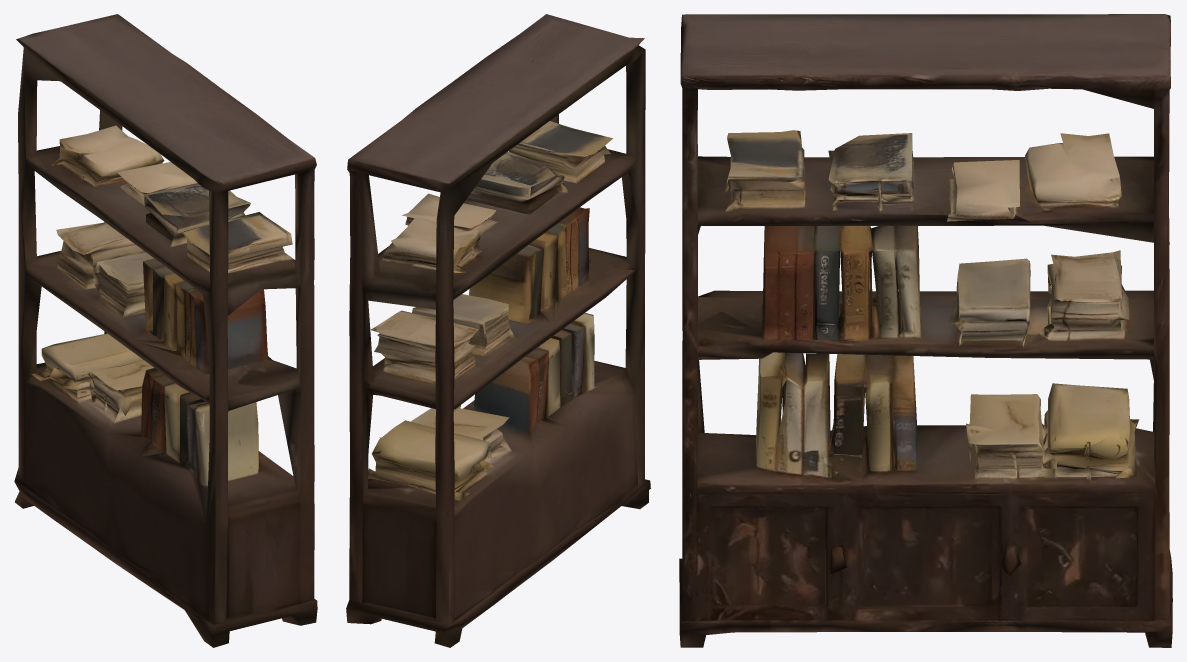
The model's file is bookshelf.glb.
3 renders of one model, left to right at view 1: azimuth 30°, elevation 25°; view 2: azimuth 150°, elevation 25°; view 3: azimuth 270°, elevation 25°, orthographic. The views are drawn at different scales.
Visible parts, largest first — view 1: tripo_node_ed6fff9f-d998-4e77-92b4-e005650b5904; view 2: tripo_node_ed6fff9f-d998-4e77-92b4-e005650b5904; view 3: tripo_node_ed6fff9f-d998-4e77-92b4-e005650b5904.
Boxes of the visible parts, x1,y1,x2,y2 form: tripo_node_ed6fff9f-d998-4e77-92b4-e005650b5904: (14,14,317,647); tripo_node_ed6fff9f-d998-4e77-92b4-e005650b5904: (346,14,650,647); tripo_node_ed6fff9f-d998-4e77-92b4-e005650b5904: (679,14,1172,647).
Bounding box in the file's own units: 0.2527 × 1 × 0.7801.
1 material, 1 textured.
